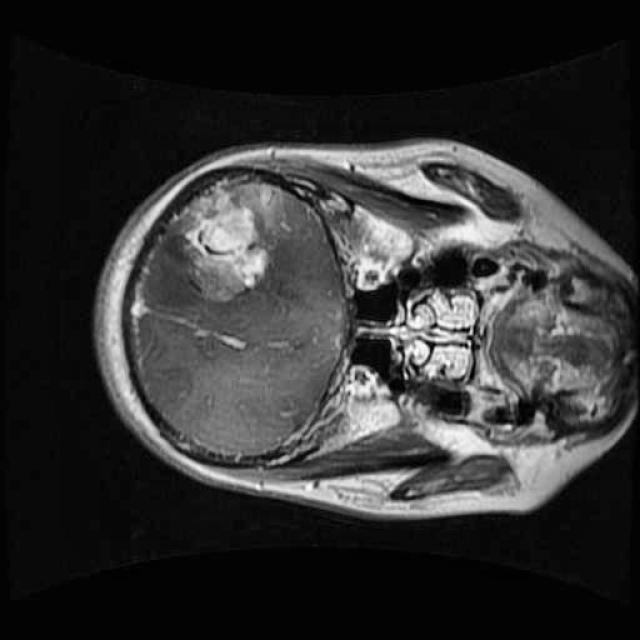Non-Tumor: (148, 159, 300, 318)
